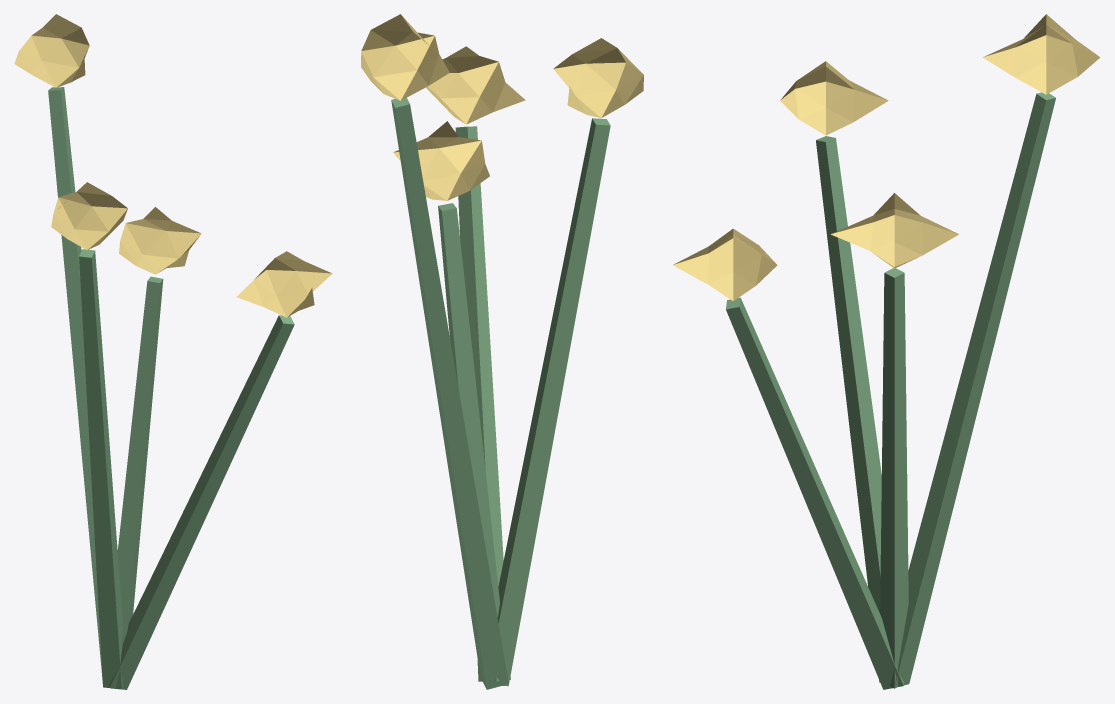
The model's file is flower_v14.glb.
3 views of the same model, side by side, from view 1: azimuth 30°, elevation 25°; view 2: azimuth 150°, elevation 25°; view 3: azimuth 270°, elevation 25° (orthographic). The views are drawn at different scales.
Parts seen in each view (by area): view 1: lod0; view 2: lod0; view 3: lod0.
Boxes of the visible parts, box(x1,y1,x2,y2) form: lod0: box(14, 14, 332, 689); lod0: box(361, 14, 643, 689); lod0: box(672, 14, 1100, 689).
Size of what is drawn, in the model's own units: 0.3564 by 0.8837 by 0.5057.
